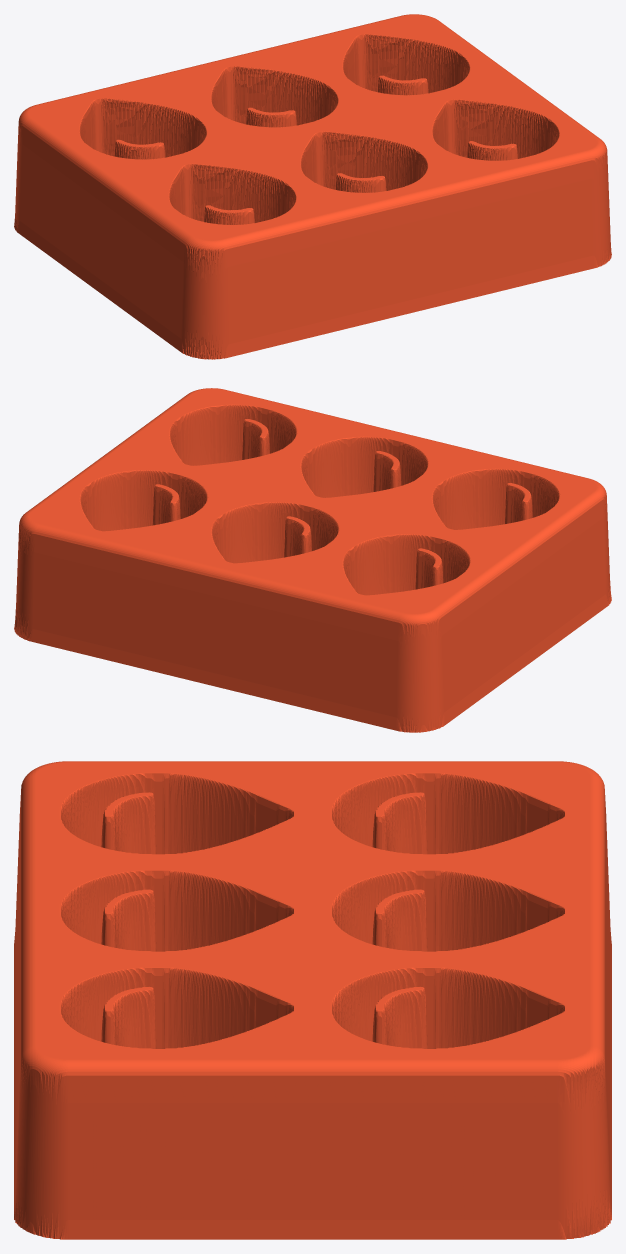
The model's file is mold.glb.
3 views of the same model, one above another, from view 1: azimuth 30°, elevation 25°; view 2: azimuth 150°, elevation 25°; view 3: azimuth 270°, elevation 25° (orthographic). The views are drawn at different scales.
Parts seen in each view (by area): view 1: geometry_0; view 2: geometry_0; view 3: geometry_0.
Boxes of the visible parts, bbox=[...] form: geometry_0: bbox=[14, 14, 611, 359]; geometry_0: bbox=[14, 388, 611, 732]; geometry_0: bbox=[14, 761, 611, 1239].
Size of the model in its own units: 0.1242 by 0.0314 by 0.0996.
